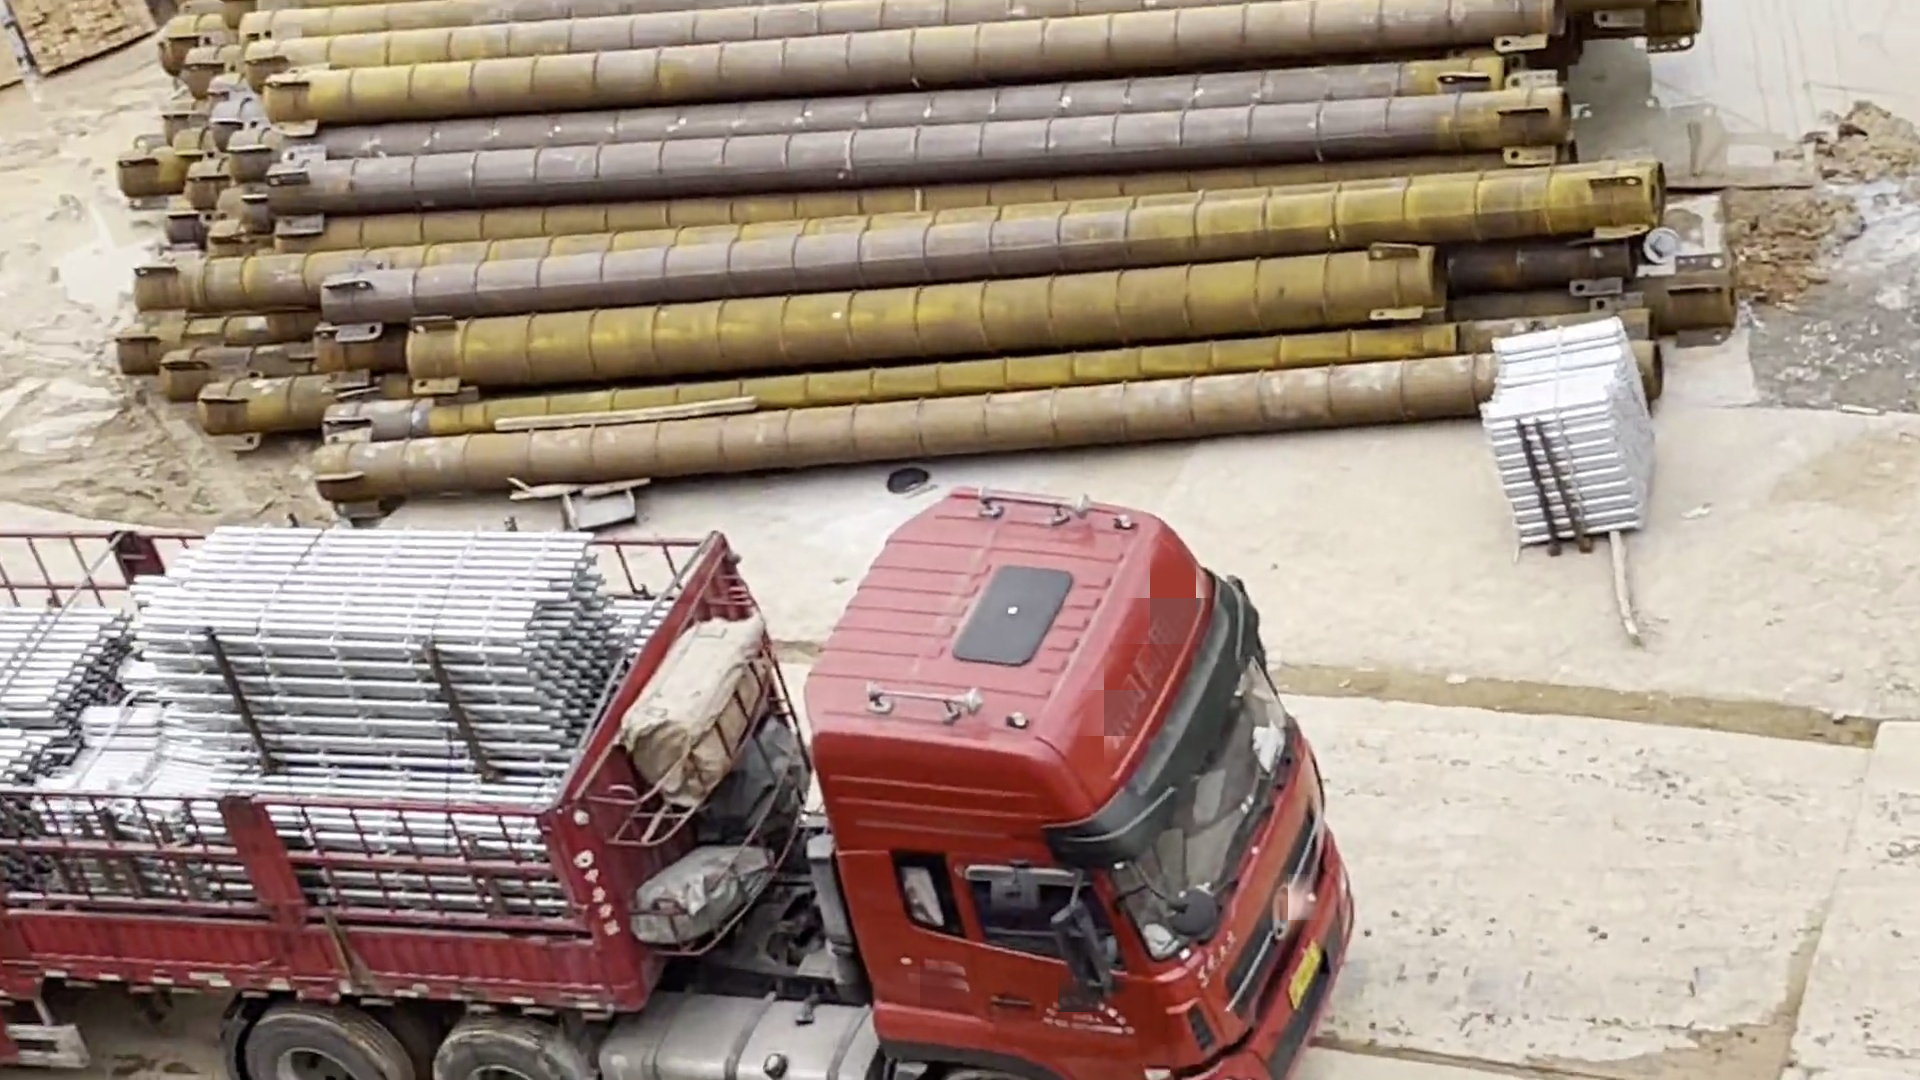scaffold: (131, 520, 634, 781), (1476, 326, 1702, 566), (3, 599, 156, 796)
wood: (3, 3, 165, 88)
